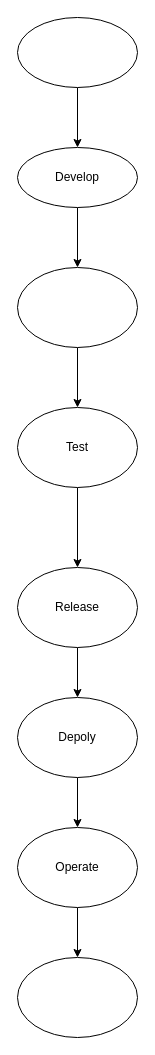
Some shapes in this 155 by 1055 pixel diagram are drawn without their labels. Here are the shapes that lost their labels. From the top down, the centre of each, then its label:
point (77, 52): Plan
point (77, 307): Build
point (77, 997): Monitor
